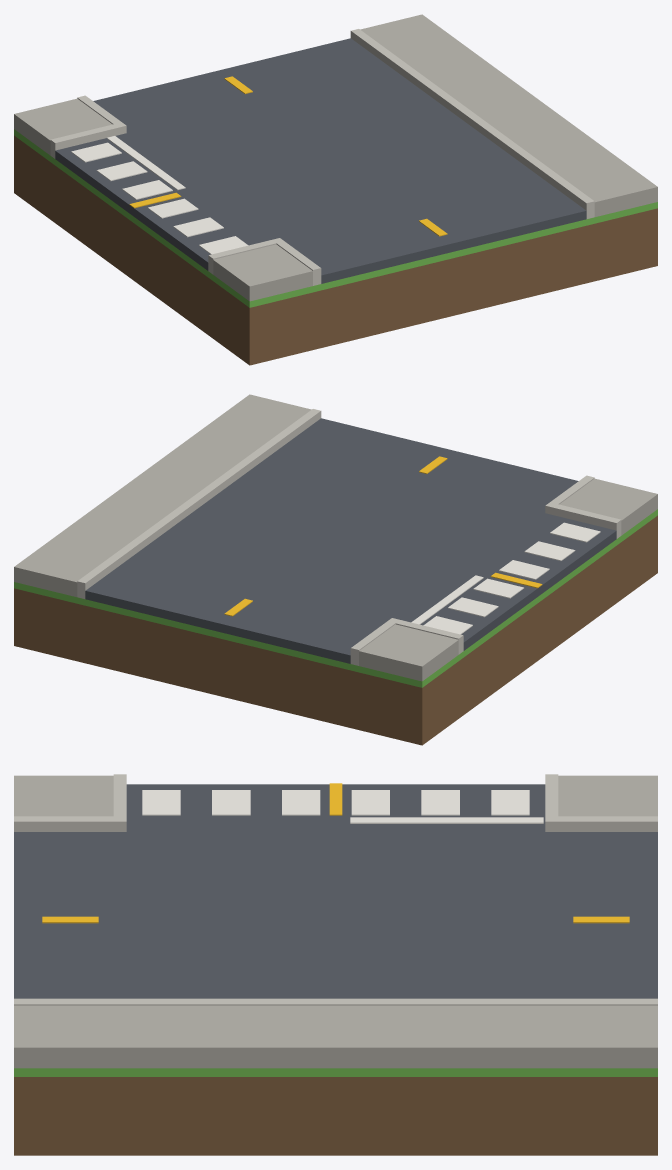
File: asfalto_t.glb
3 views of the same model, one above another, from view 1: azimuth 30°, elevation 25°; view 2: azimuth 150°, elevation 25°; view 3: azimuth 270°, elevation 25° (orthographic). The views are drawn at different scales.
Visible parts, largest first — view 1: corpo; view 2: corpo; view 3: corpo.
Part boxes in pixels (x1,y1,x2,y2): corpo: (14, 14, 657, 365); corpo: (14, 394, 657, 745); corpo: (14, 774, 657, 1155).
Bounding box in the file's own units: 2 × 0.375 × 2.
